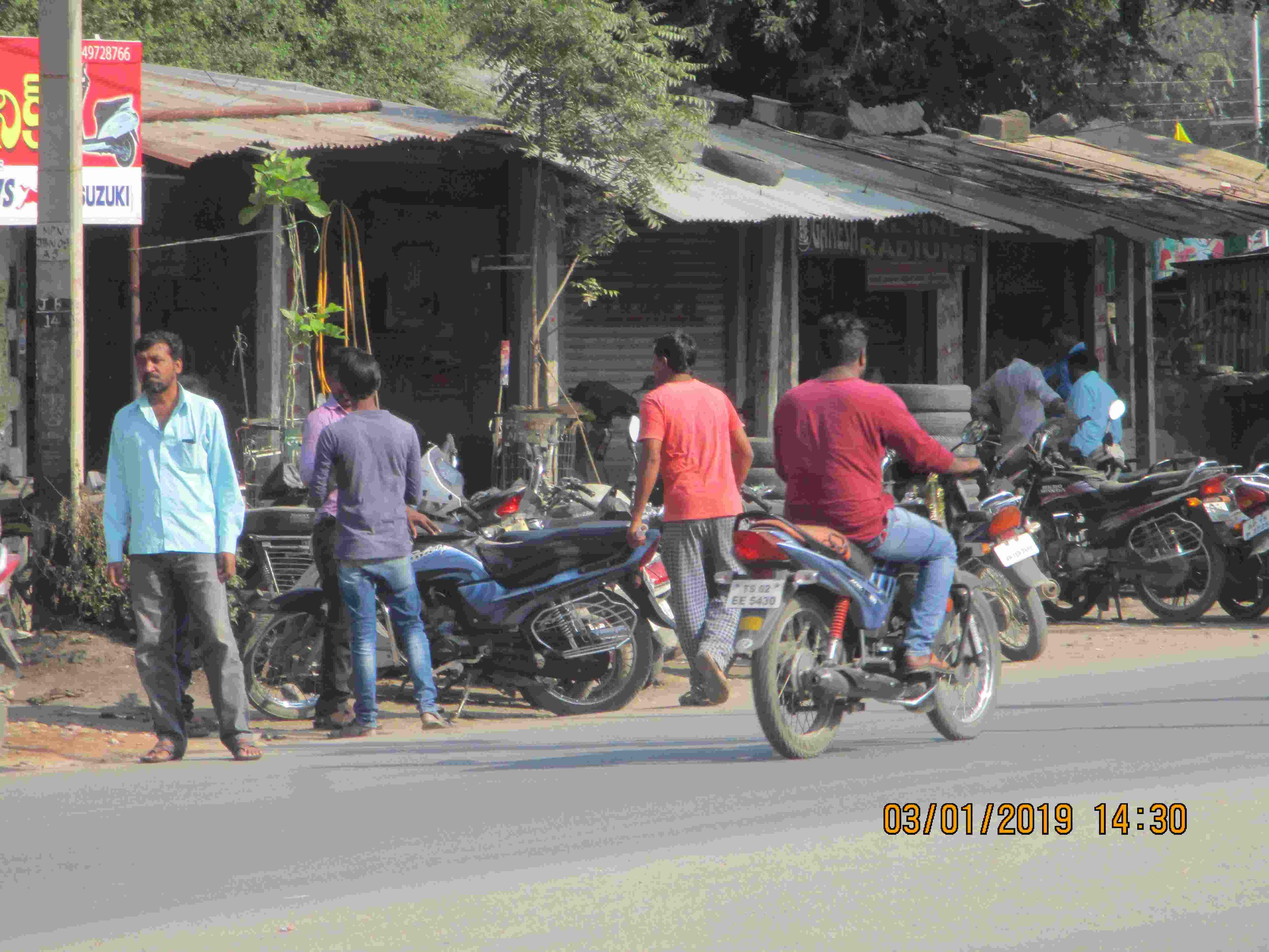plate: (730, 567, 788, 611)
